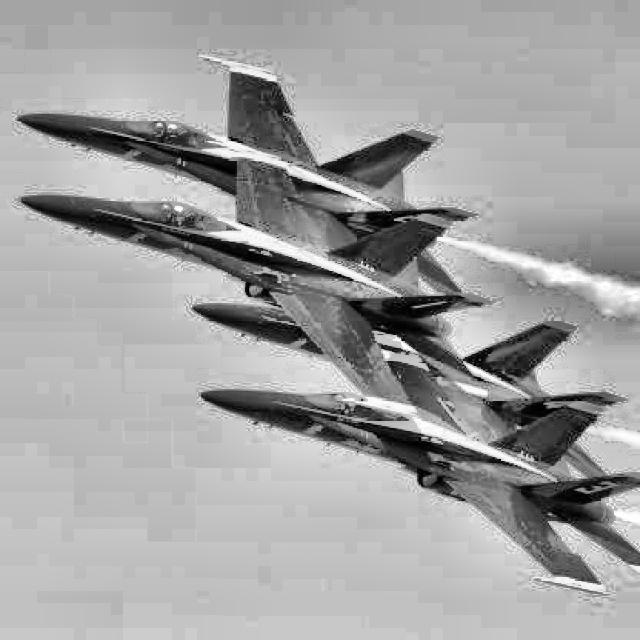F18: (17, 139, 495, 418), (16, 56, 479, 296), (198, 350, 640, 596), (189, 304, 628, 478)
